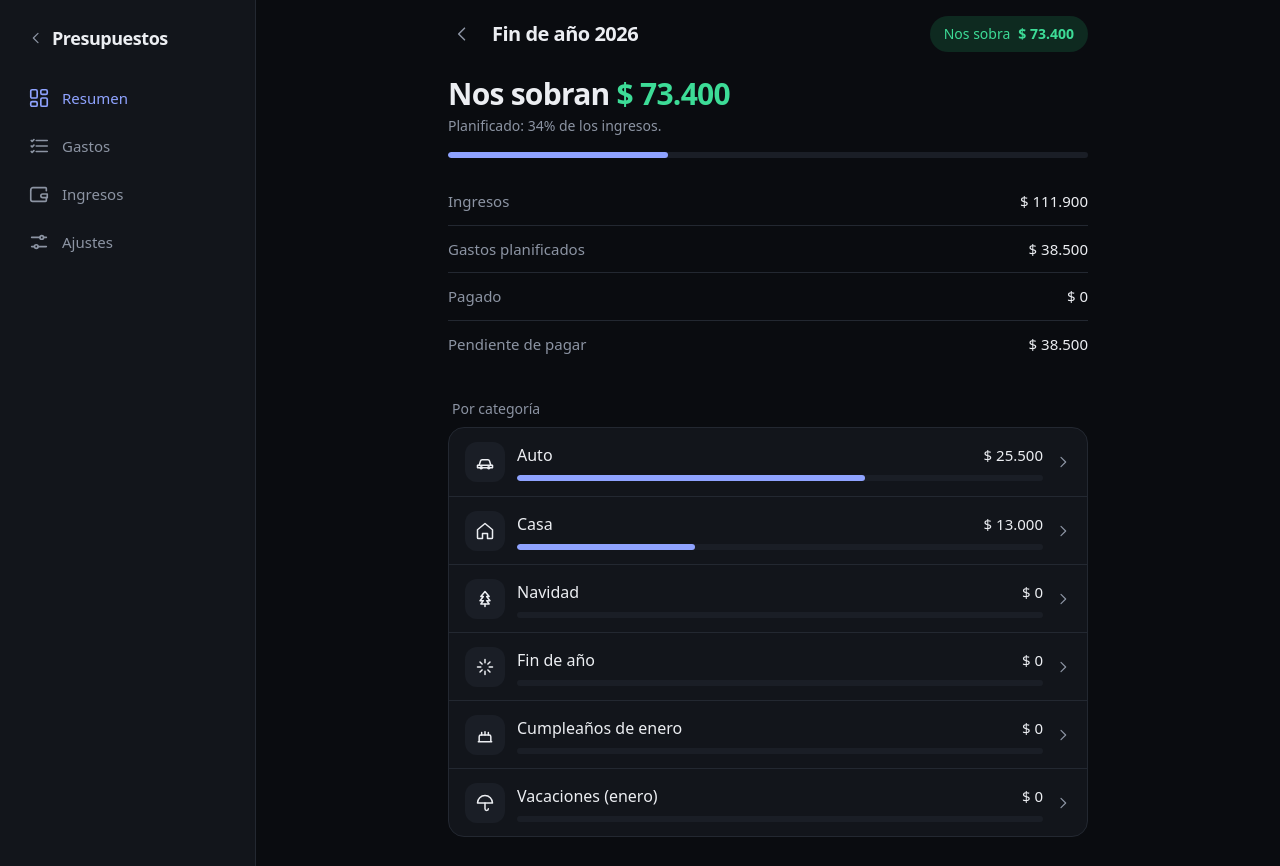
Test: navegación entre pantallas › tocar una categoría la abre y el hash cambia (se puede compartir)
The width and height of the screenshot is (1280, 866).
Click the button "Navidad $ 0" at [485, 598], box [449,564,1087,632]
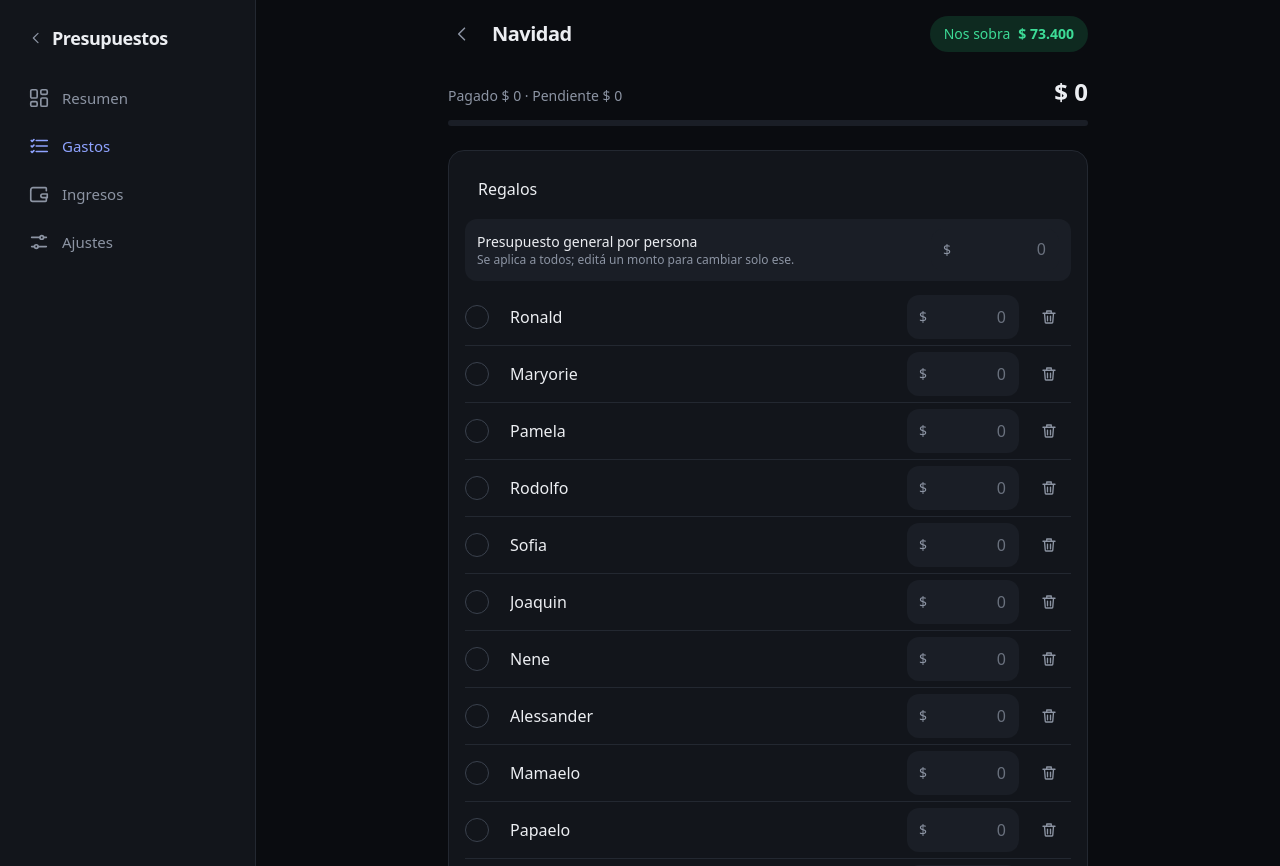
Expected: the heading reads "Navidad", [492,20,572,47]
